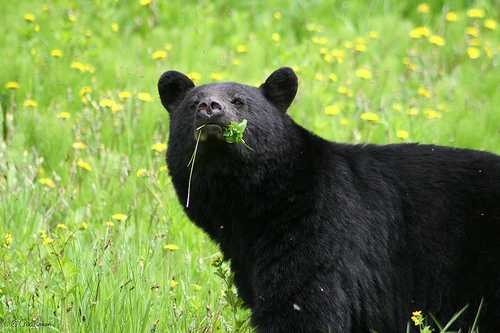bear: (159, 64, 287, 192)
